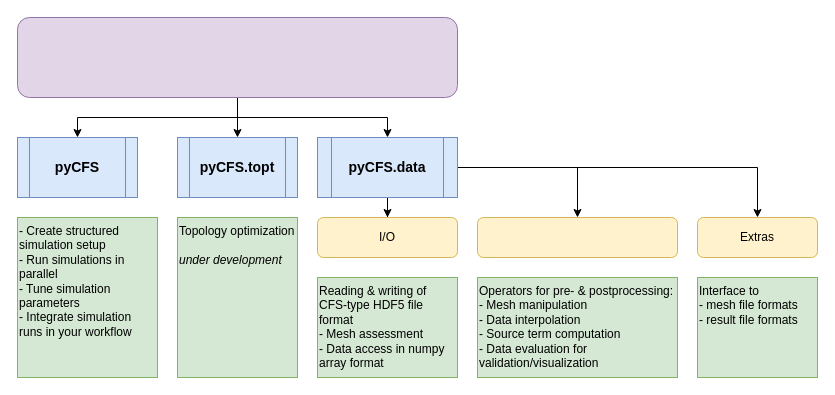
Image size: 835x395. Some labels were removed from this diagram. Here are the shapes that lost their labels. From the top down, the centre of each, then its label:
At [237,57]: "pyCFS Project".
At [577,237]: "Operators".
